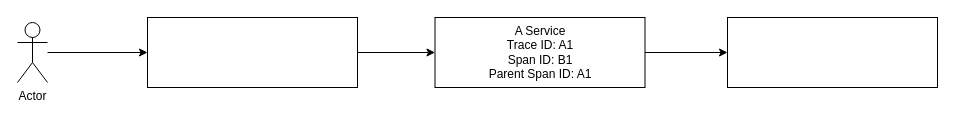
This 955x121 diagram has some shape labels left out. The box of each missing label's shape, as (x1, y1, x2, y2) in pixels:
API Gateway Trace ID: A1 Span ID: A1 Parent Span ID: null: (146, 16, 358, 88)
B Service Trace ID: A1 Span ID: C1 Parent Span ID: B1: (726, 16, 938, 88)
